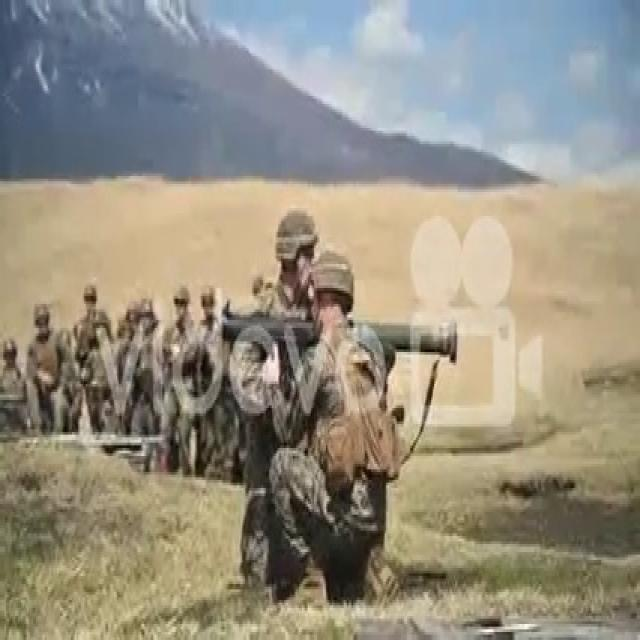bazooka: (216, 306, 463, 362)
